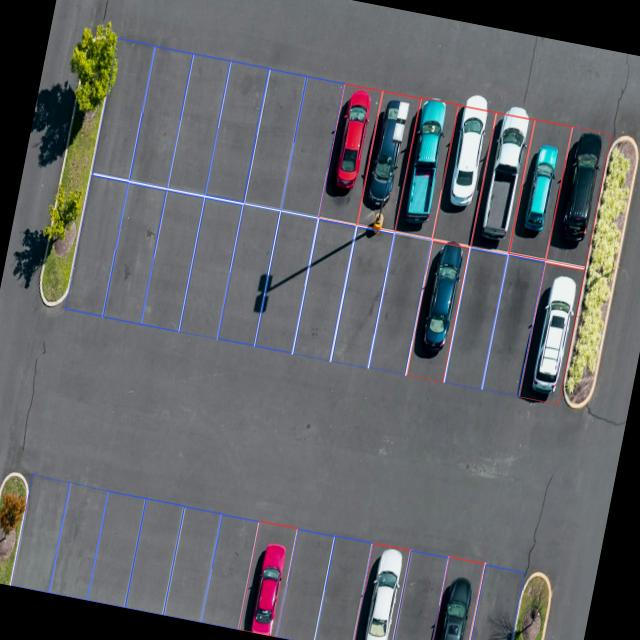car: (517, 259, 587, 405), (430, 104, 500, 248), (404, 237, 472, 382), (469, 112, 536, 255), (545, 125, 612, 268), (393, 96, 459, 240), (318, 83, 384, 225), (355, 90, 420, 230), (508, 119, 572, 261), (240, 522, 298, 637), (351, 542, 413, 640), (427, 555, 485, 640)
free: (366, 228, 436, 376), (442, 243, 511, 390), (480, 251, 548, 398), (328, 224, 396, 368), (166, 54, 232, 198), (91, 36, 157, 180), (292, 217, 358, 361), (178, 195, 244, 338), (102, 182, 168, 324), (216, 204, 282, 346), (64, 173, 130, 314), (205, 61, 270, 204), (243, 68, 308, 211), (129, 45, 194, 188), (281, 76, 346, 218), (140, 188, 205, 330), (256, 213, 317, 352), (8, 476, 71, 592), (86, 488, 147, 606), (163, 506, 225, 622), (200, 514, 260, 630), (125, 496, 183, 614), (312, 534, 375, 640), (51, 482, 108, 596), (276, 530, 335, 640), (388, 549, 449, 640), (461, 563, 526, 640)
